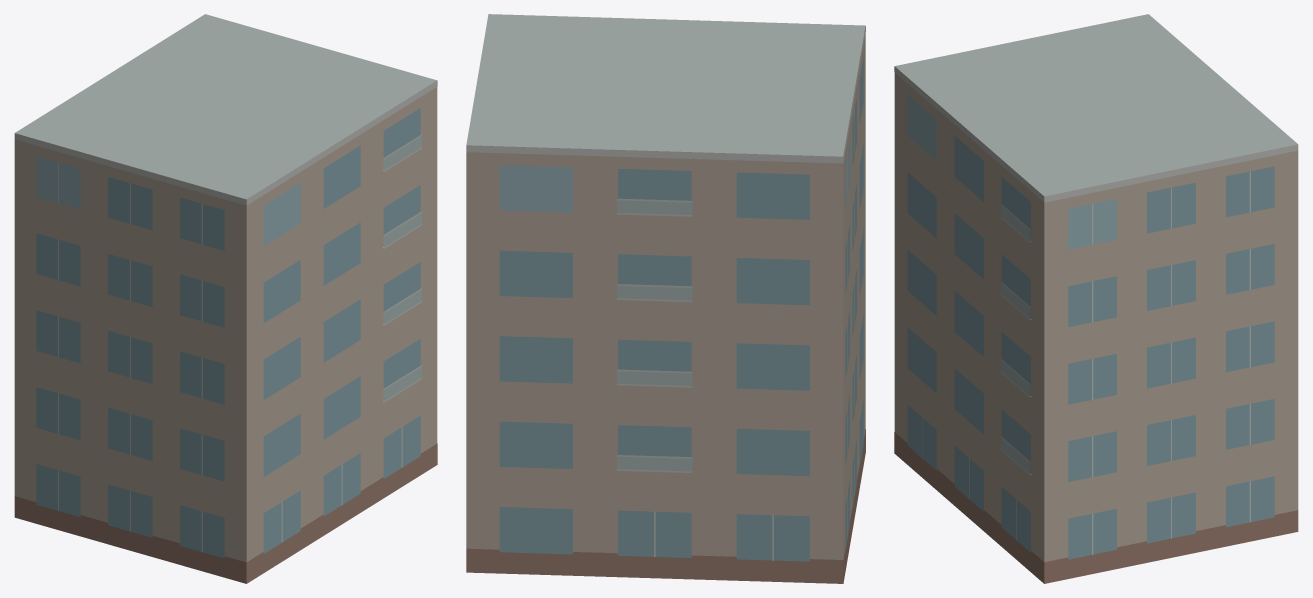
The model's file is residential-d6adedf1-de4d-4f9f-8b9a-466823b84f88.glb.
The picture shows the model from 3 angles, left to right: view 1: azimuth 30°, elevation 25°; view 2: azimuth 150°, elevation 25°; view 3: azimuth 270°, elevation 25°; orthographic projection. The views are drawn at different scales.
Parts seen in each view (by area): view 1: residential-d6adedf1-de4d-4f9f-8b9a-466823b84f88.tmp; view 2: residential-d6adedf1-de4d-4f9f-8b9a-466823b84f88.tmp; view 3: residential-d6adedf1-de4d-4f9f-8b9a-466823b84f88.tmp.
Part boxes in pixels (box(x1,y1,x2,y2)): residential-d6adedf1-de4d-4f9f-8b9a-466823b84f88.tmp: box(14, 14, 437, 583); residential-d6adedf1-de4d-4f9f-8b9a-466823b84f88.tmp: box(466, 14, 865, 583); residential-d6adedf1-de4d-4f9f-8b9a-466823b84f88.tmp: box(894, 14, 1298, 583).
Size of the model in its own units: 15.41 by 15.25 by 14.42.
